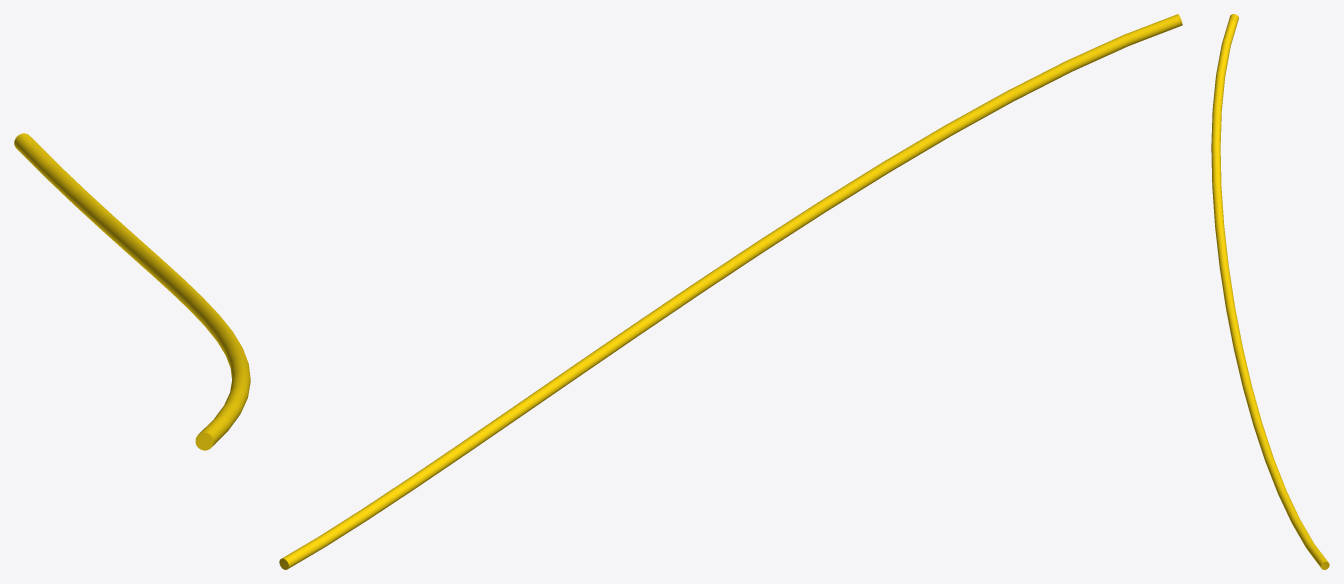
The model's file is Event_421115418_track_109.fbx.
The picture shows the model from 3 angles, left to right: view 1: azimuth 90°, elevation 25°; view 2: azimuth 210°, elevation 25°; view 3: azimuth 270°, elevation 25°; orthographic projection. The views are drawn at different scales.
Parts seen in each view (by area): view 1: Model; view 2: Model; view 3: Model.
Part boxes in pixels (x1=…): Model: x1=14, y1=133, x2=250, y2=450; Model: x1=279, y1=14, x2=1182, y2=569; Model: x1=1211, y1=14, x2=1329, y2=569.
Size of the model in its own units: 3.57 by 0.9861 by 0.5092.
